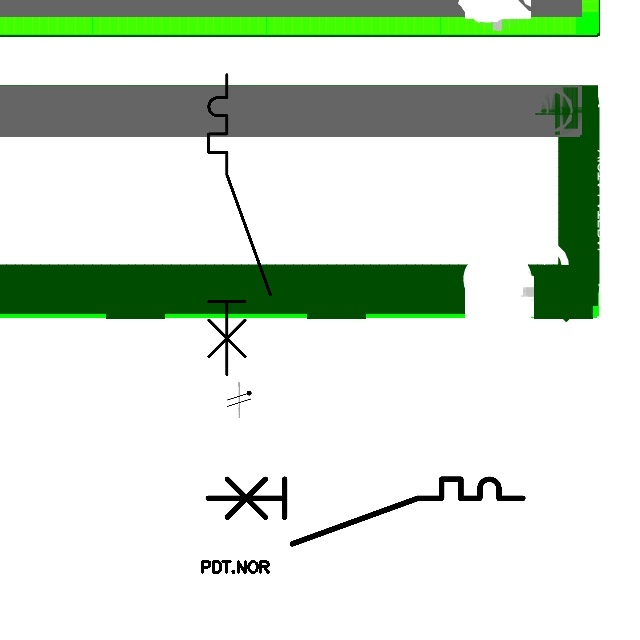interruptor_termomagnetico: (200, 471, 531, 552), (201, 67, 278, 382)
